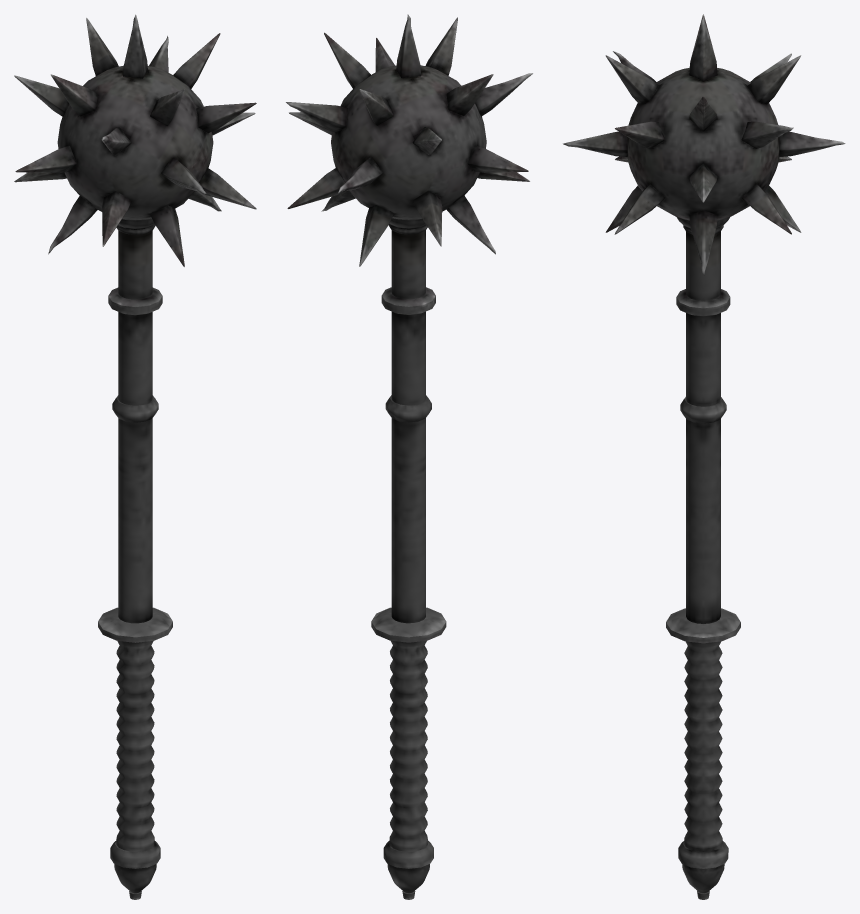
Rendered from weapon-wp_a_0812.glb.
3 views of the same model, side by side, from view 1: azimuth 30°, elevation 25°; view 2: azimuth 150°, elevation 25°; view 3: azimuth 270°, elevation 25° (orthographic).
Parts seen in each view (by area): view 1: wp_a_0812_mesh; view 2: wp_a_0812_mesh; view 3: wp_a_0812_mesh.
Boxes of the visible parts, x1,y1,x2,y2 form: wp_a_0812_mesh: (14, 14, 256, 899); wp_a_0812_mesh: (286, 14, 532, 899); wp_a_0812_mesh: (563, 14, 845, 899).
Bounding box in the file's own units: 0.2705 × 0.9502 × 0.2768.
1 material, 1 textured.
